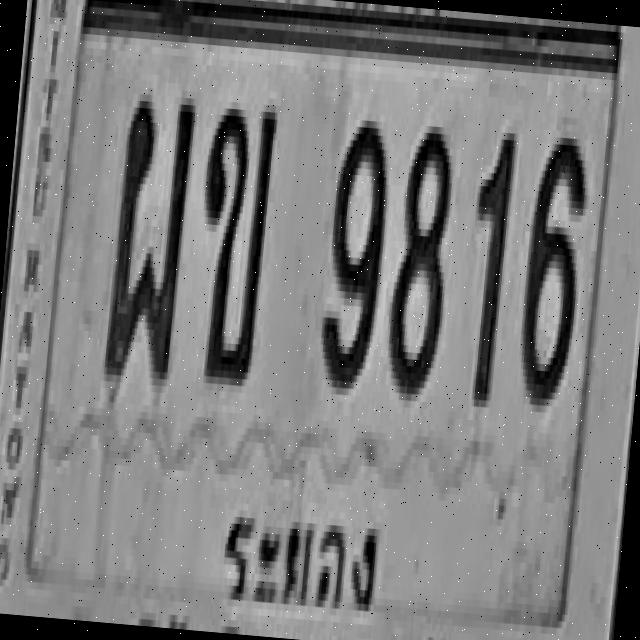1: (459, 124, 517, 408)
11KhorKhai: (187, 100, 277, 386)
37PhorPhueng: (101, 89, 196, 382)
6: (514, 128, 590, 407)
8: (383, 117, 458, 396)
9: (316, 110, 392, 390)
Rayong: (214, 478, 394, 619)
